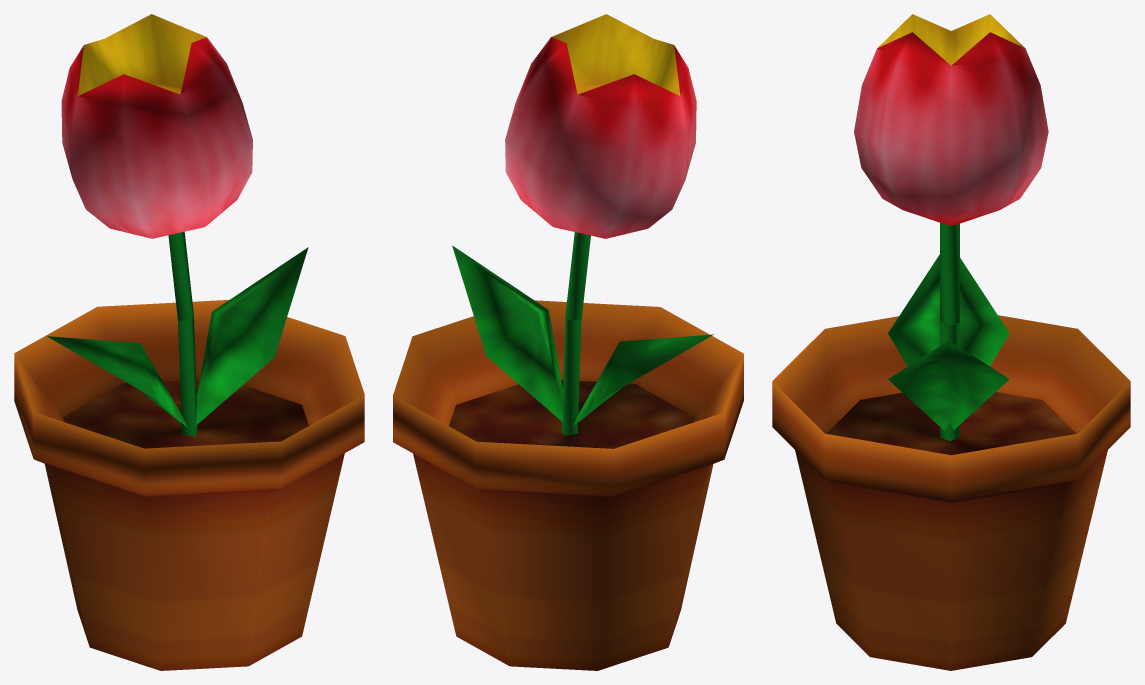
Rendered from STATIC.ICO.obj.
The picture shows the model from 3 angles, left to right: view 1: azimuth 30°, elevation 25°; view 2: azimuth 150°, elevation 25°; view 3: azimuth 270°, elevation 25°; orthographic projection. The views are drawn at different scales.
Bounding box in the file's own units: 2.52 × 4.62 × 2.57.
Materials: 1 (1 with a texture image).
